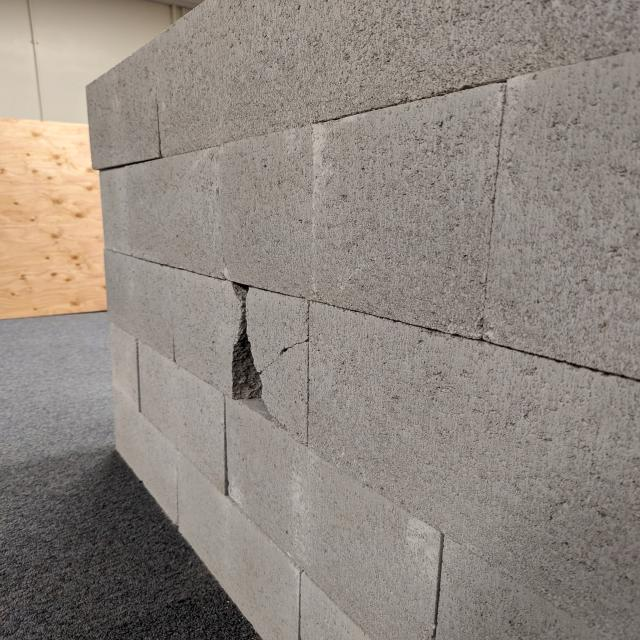crack: (262, 334, 309, 379)
spall: (222, 280, 275, 427)
